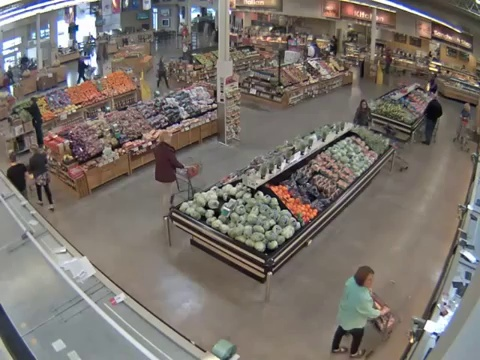face: (365, 273, 374, 286)
